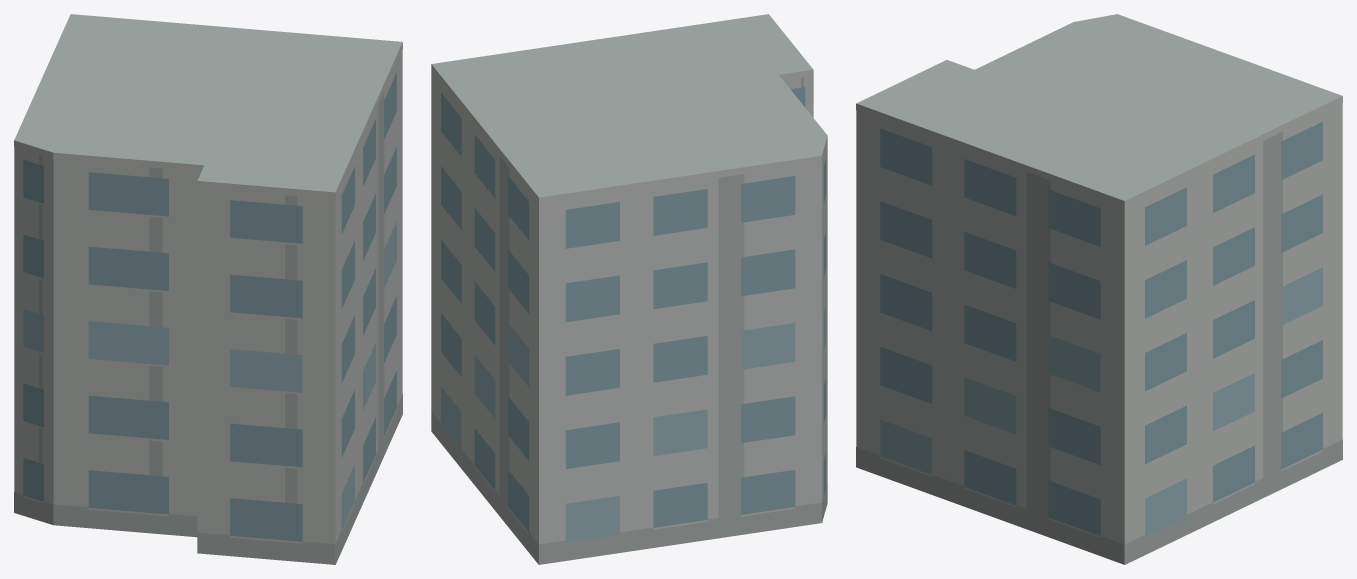
Rendered from survey-upis-32537805.glb.
3 renders of one model, left to right at view 1: azimuth 30°, elevation 25°; view 2: azimuth 150°, elevation 25°; view 3: azimuth 270°, elevation 25°, orthographic. The views are drawn at different scales.
Parts seen in each view (by area): view 1: survey-upis-32537805.tmp; view 2: survey-upis-32537805.tmp; view 3: survey-upis-32537805.tmp.
Part boxes in pixels (x1,y1,x2,y2): survey-upis-32537805.tmp: (14,14,402,564); survey-upis-32537805.tmp: (431,14,827,564); survey-upis-32537805.tmp: (856,14,1342,564).
Bounding box in the file's own units: 14.56 × 13.2 × 16.
